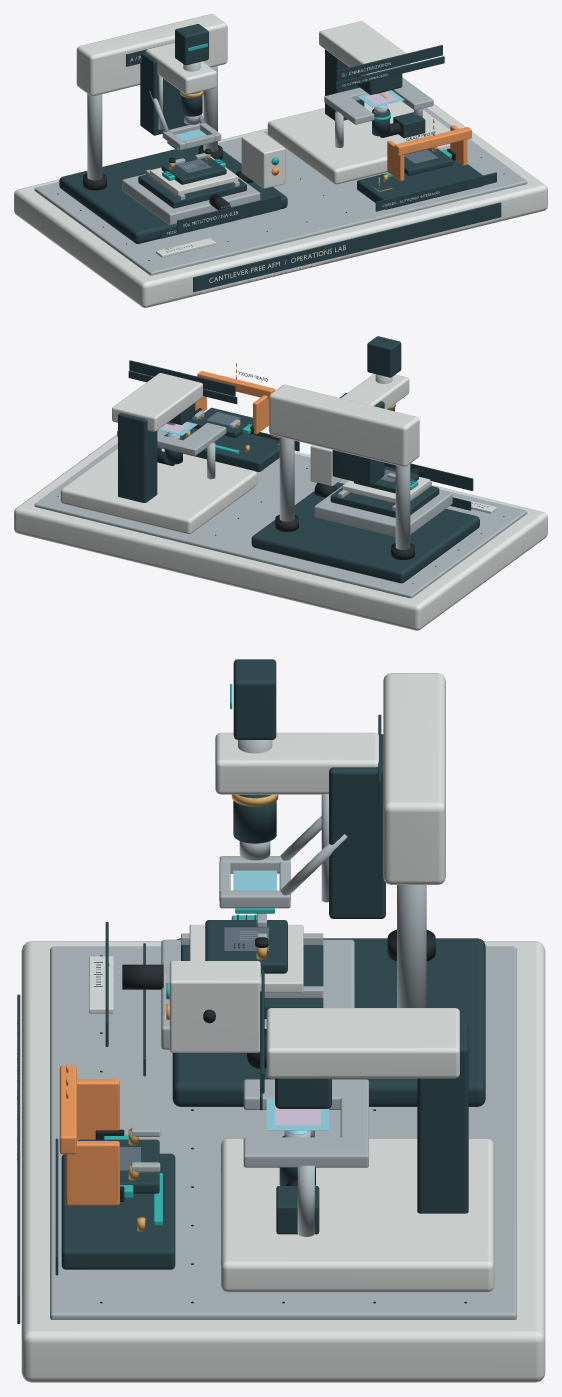
File: afm_operations_lab.glb
3 renders of one model, top to bottom at view 1: azimuth 30°, elevation 25°; view 2: azimuth 150°, elevation 25°; view 3: azimuth 270°, elevation 25°, orthographic. The views are drawn at different scales.
Visible parts, largest first — view 1: bench.inset, bench.top, character.base, parallel.base, parallel.bridge, bench.title.plate, character.upper_arm, handling.dock, parallel.z_carriage, parallel.x_stage, interface.panel, parallel.optical_arm (+24 smaller); view 2: bench.top, bench.inset, parallel.base, character.base, parallel.bridge, character.rear_column, character.upper_arm, parallel.x_stage, handling.dock, parallel.optical_arm, parallel.z_carriage, parallel.column (+14 smaller); view 3: bench.top, bench.inset, character.base, parallel.base, character.upper_arm, parallel.bridge, handling.dock, parallel.z_carriage, interface.panel, parallel.optical_arm, character.rear_column, character.open_frame.right (+22 smaller).
Part boxes in pixels (x1=…): bench.inset: x1=34, y1=107, x2=527, y2=275; bench.top: x1=14, y1=103, x2=547, y2=307; character.base: x1=267, y1=101, x2=450, y2=184; parallel.base: x1=59, y1=145, x2=287, y2=243; parallel.bridge: x1=76, y1=14, x2=227, y2=96; bench.title.plate: x1=193, y1=202, x2=501, y2=292; character.upper_arm: x1=319, y1=21, x2=410, y2=75; handling.dock: x1=357, y1=160, x2=483, y2=209; parallel.z_carriage: x1=140, y1=52, x2=188, y2=135; parallel.x_stage: x1=122, y1=174, x2=260, y2=225; interface.panel: x1=241, y1=132, x2=285, y2=188; parallel.optical_arm: x1=145, y1=42, x2=216, y2=94; bench.top: x1=14, y1=434, x2=547, y2=630; bench.inset: x1=34, y1=430, x2=527, y2=598; parallel.base: x1=251, y1=482, x2=479, y2=583; character.base: x1=60, y1=448, x2=257, y2=534; parallel.bridge: x1=269, y1=384, x2=419, y2=466; character.rear_column: x1=118, y1=413, x2=157, y2=502; character.upper_arm: x1=112, y1=373, x2=202, y2=431; parallel.x_stage: x1=314, y1=486, x2=452, y2=536; handling.dock: x1=162, y1=419, x2=279, y2=471; parallel.optical_arm: x1=341, y1=374, x2=409, y2=409; parallel.z_carriage: x1=332, y1=393, x2=384, y2=485; parallel.column: x1=395, y1=464, x2=410, y2=549; bench.top: x1=21, y1=941, x2=545, y2=1382; bench.inset: x1=50, y1=946, x2=516, y2=1319; character.base: x1=221, y1=1138, x2=494, y2=1292; parallel.base: x1=172, y1=938, x2=485, y2=1106; character.upper_arm: x1=266, y1=1008, x2=459, y2=1078; parallel.bridge: x1=383, y1=673, x2=445, y2=884; handling.dock: x1=61, y1=1153, x2=175, y2=1269; parallel.z_carriage: x1=329, y1=734, x2=385, y2=918; interface.panel: x1=169, y1=961, x2=260, y2=1052; parallel.optical_arm: x1=215, y1=732, x2=378, y2=794; character.rear_column: x1=417, y1=1022, x2=468, y2=1213; character.open_frame.right: x1=243, y1=1137, x2=368, y2=1167.
Size of the model in its own units: 1.65 by 0.868 by 0.9291.
